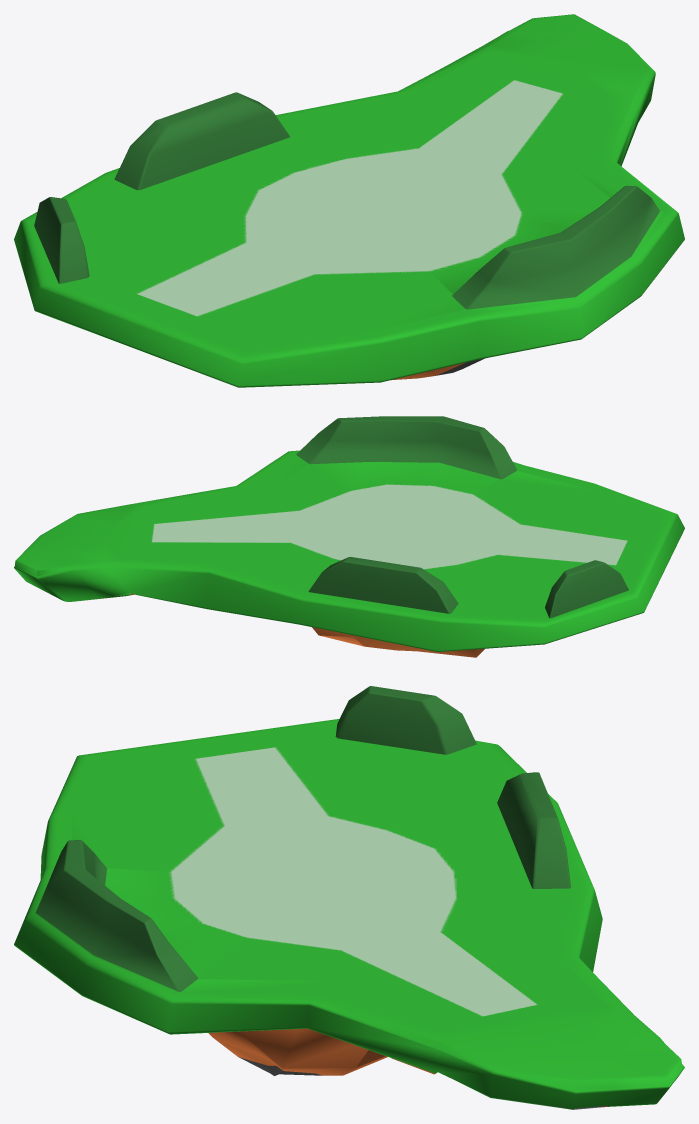
File: sum11.FBX
The picture shows the model from 3 angles, top to bottom: view 1: azimuth 30°, elevation 25°; view 2: azimuth 150°, elevation 25°; view 3: azimuth 270°, elevation 25°; orthographic projection. The views are drawn at different scales.
Parts seen in each view (by area): view 1: Cylinder002; view 2: Cylinder002; view 3: Cylinder002.
Boxes of the visible parts, x1,y1,x2,y2 form: Cylinder002: [14, 14, 684, 387]; Cylinder002: [14, 416, 684, 657]; Cylinder002: [14, 686, 684, 1109].
Size of the model in its own units: 580 by 156 by 454.
